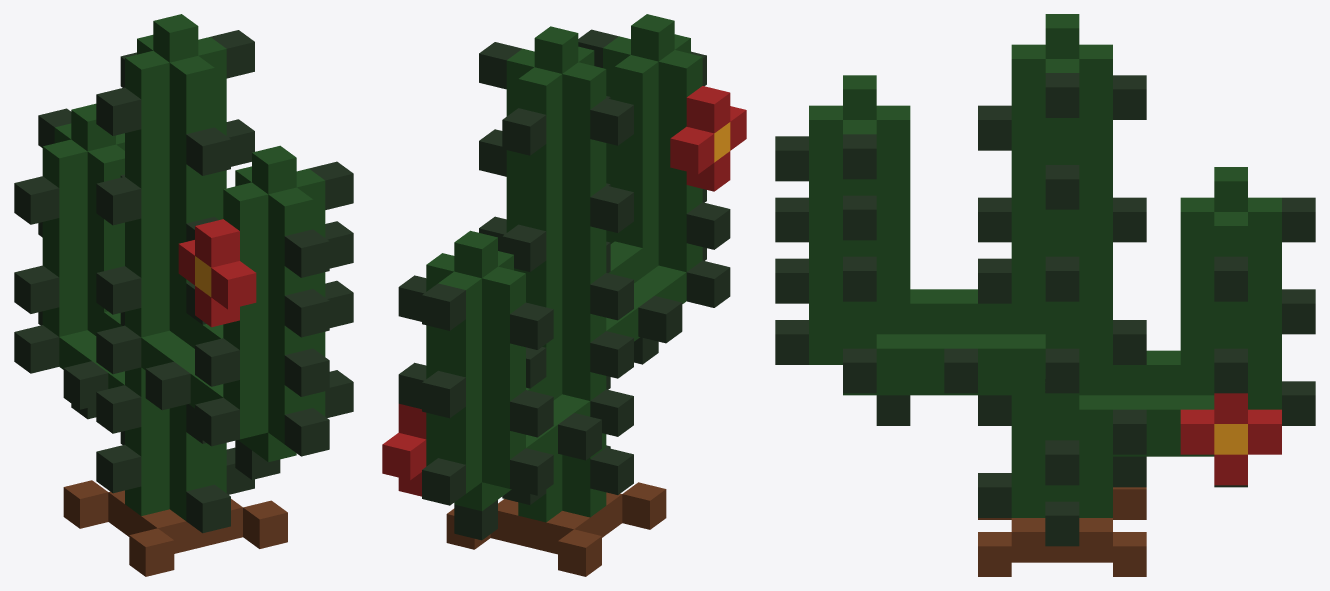
File: CACTUS SHRUB.fbx
3 views of the same model, side by side, from view 1: azimuth 30°, elevation 25°; view 2: azimuth 150°, elevation 25°; view 3: azimuth 270°, elevation 25° (orthographic). The views are drawn at different scales.
Parts seen in each view (by area): view 1: Untitled; view 2: Untitled; view 3: Untitled.
Part boxes in pixels (box(x1,y1,x2,y2)): Untitled: box(14, 14, 353, 576); Untitled: box(382, 14, 746, 576); Untitled: box(775, 14, 1315, 576).
Bounding box in the file's own units: 50 × 170 × 160.
